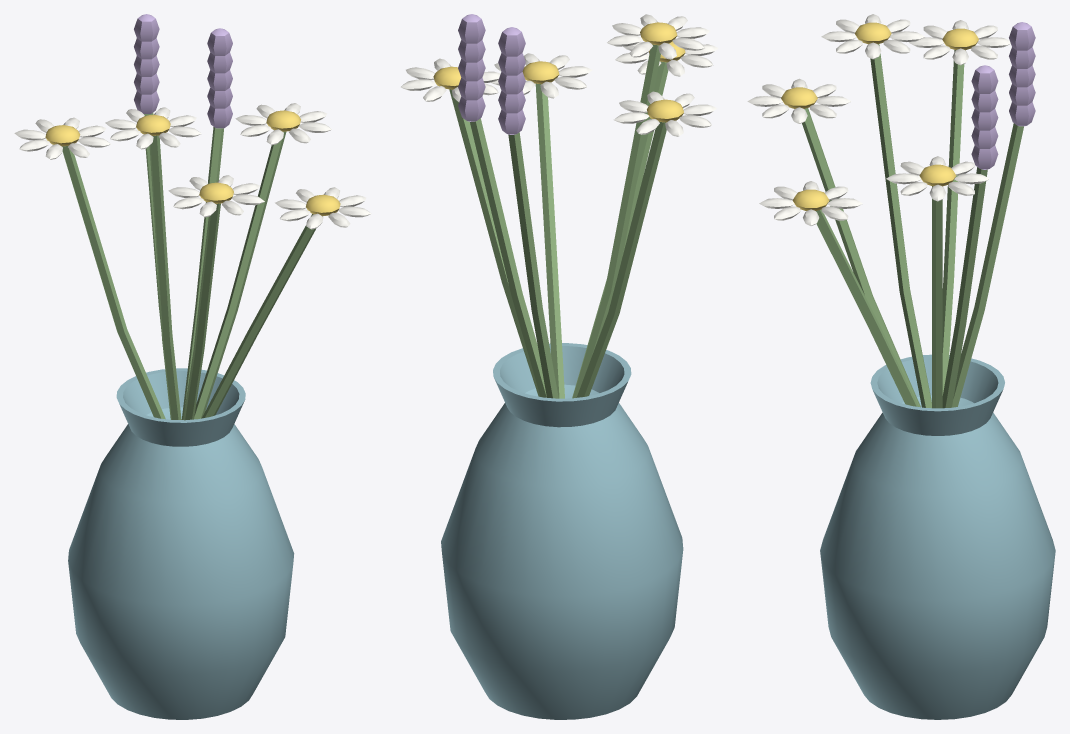
The model's file is flower_vase.glb.
3 views of the same model, side by side, from view 1: azimuth 30°, elevation 25°; view 2: azimuth 150°, elevation 25°; view 3: azimuth 270°, elevation 25° (orthographic). The views are drawn at different scales.
Parts seen in each view (by area): view 1: flower_vase; view 2: flower_vase; view 3: flower_vase.
Part boxes in pixels (bbox=[...]): flower_vase: bbox=[14, 14, 371, 719]; flower_vase: bbox=[400, 14, 718, 719]; flower_vase: bbox=[747, 14, 1055, 719].
Size of the model in its own units: 0.2117 by 0.4386 by 0.1832.
